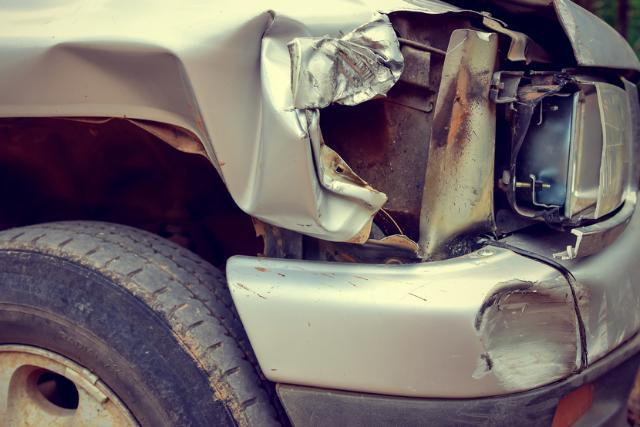Bumper: (224, 195, 640, 427)
Fender: (0, 0, 356, 237)
Light: (264, 9, 578, 263)
